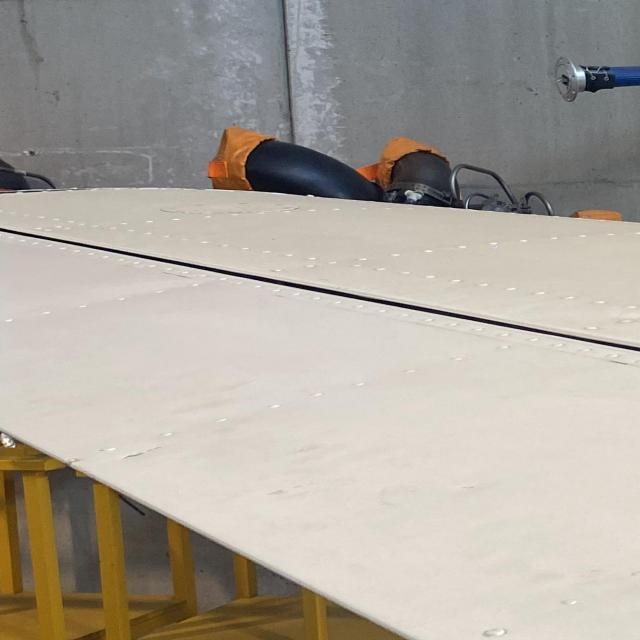Paint-off: (110, 443, 170, 465), (57, 454, 86, 474)
